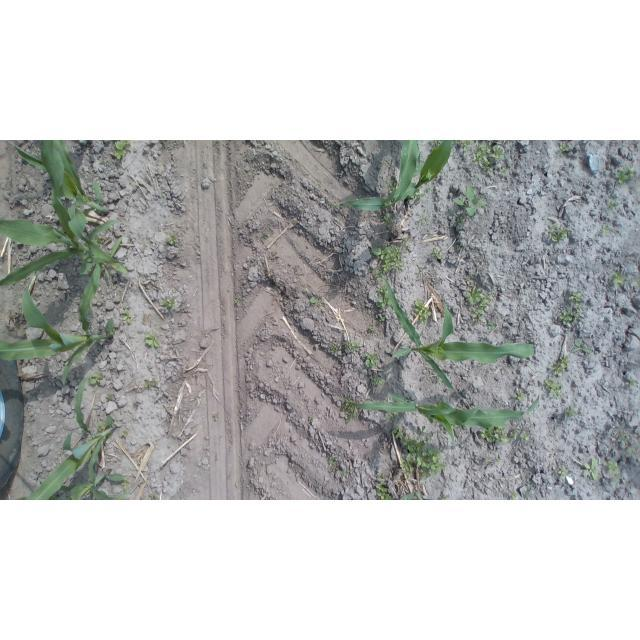Maize: (0, 140, 130, 288), (383, 278, 535, 390), (0, 262, 114, 386), (24, 376, 118, 501), (346, 393, 540, 443), (331, 141, 453, 211), (7, 140, 112, 216), (19, 469, 129, 500), (400, 492, 430, 501)
Weeds: (393, 424, 448, 480), (454, 184, 487, 216), (472, 141, 505, 171), (371, 244, 405, 272), (464, 288, 490, 324), (560, 304, 585, 326), (413, 299, 432, 326), (479, 427, 509, 444), (548, 222, 569, 243), (112, 140, 132, 160), (617, 164, 636, 185), (545, 377, 562, 400), (343, 397, 358, 423), (551, 356, 570, 376), (584, 456, 599, 480), (375, 286, 391, 308), (603, 457, 620, 476), (571, 340, 593, 354), (376, 481, 392, 500), (159, 297, 178, 312), (144, 332, 161, 348), (364, 352, 378, 368), (369, 373, 383, 387), (613, 272, 628, 285), (455, 140, 471, 152), (144, 378, 160, 390), (326, 451, 339, 465), (345, 340, 361, 351), (430, 248, 442, 261), (569, 292, 583, 303), (124, 309, 133, 326), (565, 408, 580, 418), (90, 373, 105, 383), (524, 476, 530, 500), (375, 269, 384, 284), (385, 412, 400, 421), (558, 467, 570, 478), (167, 232, 178, 244), (384, 214, 394, 227), (625, 379, 636, 390), (559, 143, 571, 153), (399, 235, 412, 244), (93, 237, 107, 245), (607, 201, 617, 212), (617, 436, 629, 445), (602, 224, 610, 237), (520, 432, 530, 442), (103, 393, 113, 403), (514, 393, 528, 400), (510, 488, 517, 501), (510, 430, 519, 440), (99, 422, 108, 432), (121, 430, 130, 440), (261, 235, 269, 245), (417, 266, 427, 274), (487, 321, 495, 331), (121, 480, 129, 490), (332, 343, 339, 354), (310, 296, 318, 305), (501, 167, 510, 175), (307, 416, 315, 425), (494, 457, 502, 466), (370, 325, 377, 335), (214, 413, 221, 423), (454, 218, 462, 226), (340, 470, 349, 477), (378, 316, 386, 323), (148, 496, 159, 501), (633, 278, 640, 285), (377, 473, 384, 480), (293, 264, 299, 272), (441, 494, 449, 500), (484, 455, 489, 464), (425, 187, 431, 194), (235, 297, 241, 304), (405, 246, 412, 251), (272, 251, 277, 257), (314, 185, 320, 190), (421, 215, 426, 221), (455, 245, 461, 250), (467, 273, 472, 279), (518, 425, 523, 431), (172, 287, 177, 293), (99, 160, 105, 165), (160, 195, 165, 200), (162, 140, 167, 144), (390, 181, 393, 187), (108, 435, 112, 438)
